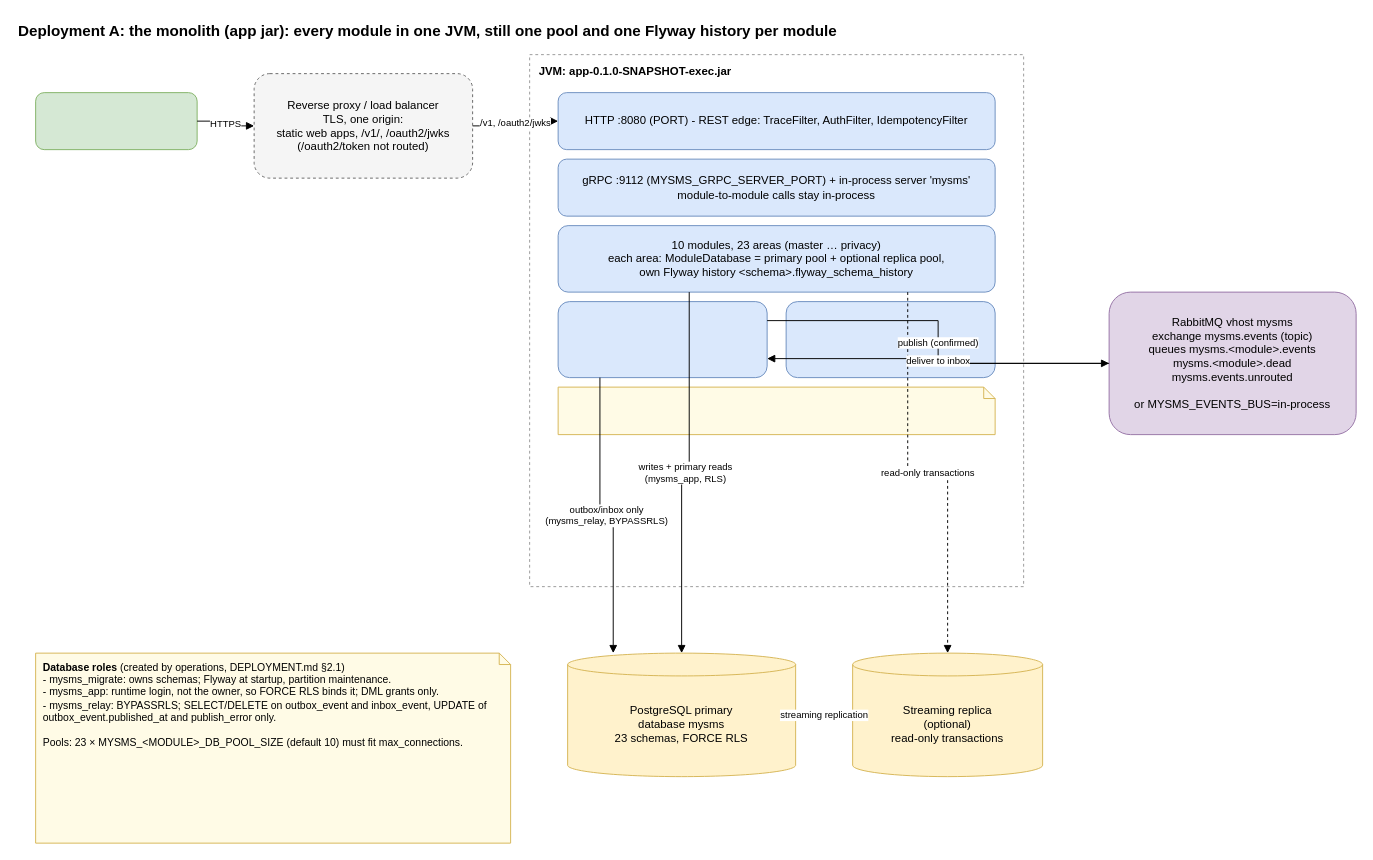
This 1373x860 diagram has some shape labels left out. Each missing label, with the centre of its shape:
"Browsers and apps" belongs at (x=116, y=121).
"EventRuntime one relay loop over all module outboxes ('outbox-relay')" belongs at (x=662, y=339).
"JobRuntime ('scheduled-jobs') PartitionMaintenanceJob" belongs at (x=890, y=339).
"Monolith publishes for every module as one broker user (publisher-user = self)" belongs at (x=776, y=410).
